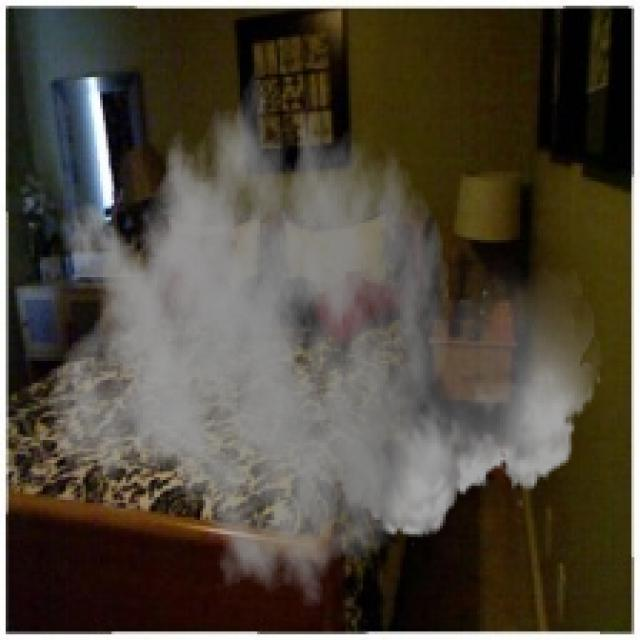smoke: (46, 46, 603, 608)
